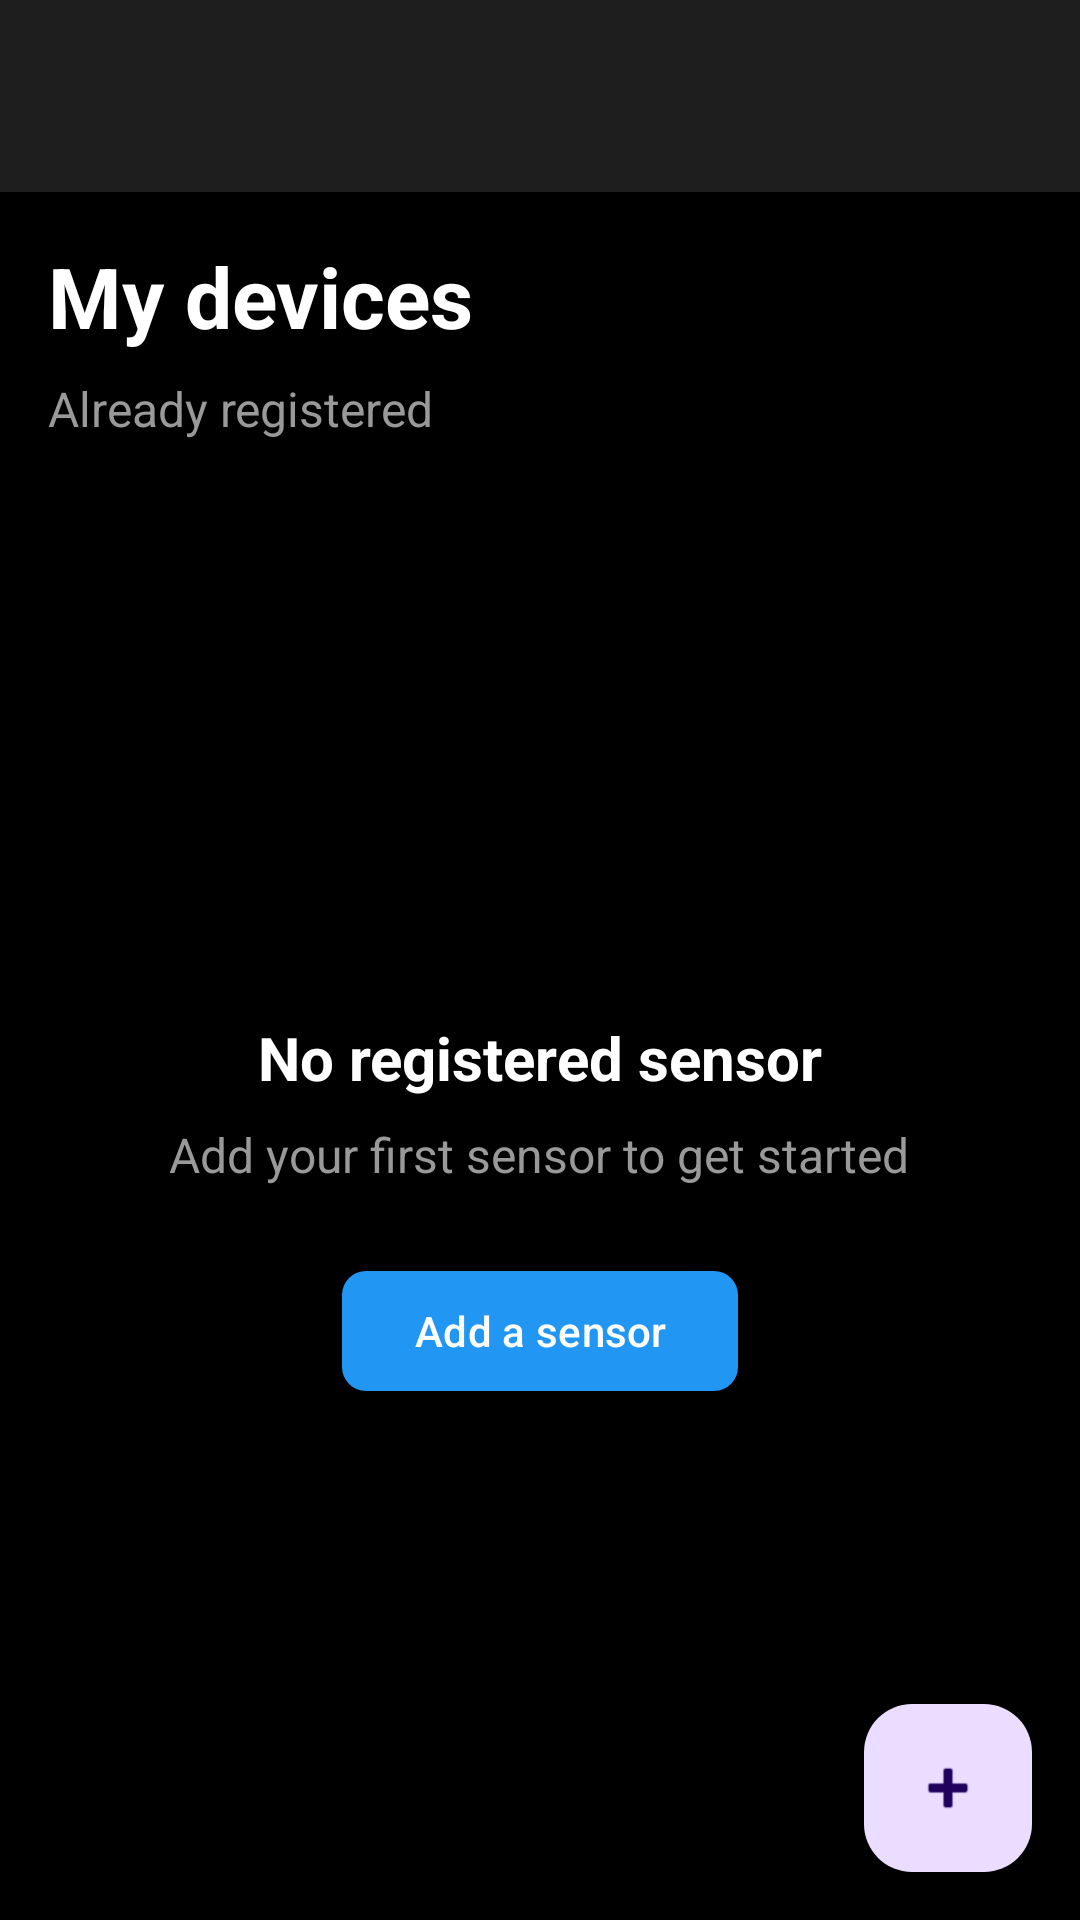

Screen size 1080px×1920px. Icon name, then its center in pixels as point (x, y):
Add a sensor: point (948, 1788)
